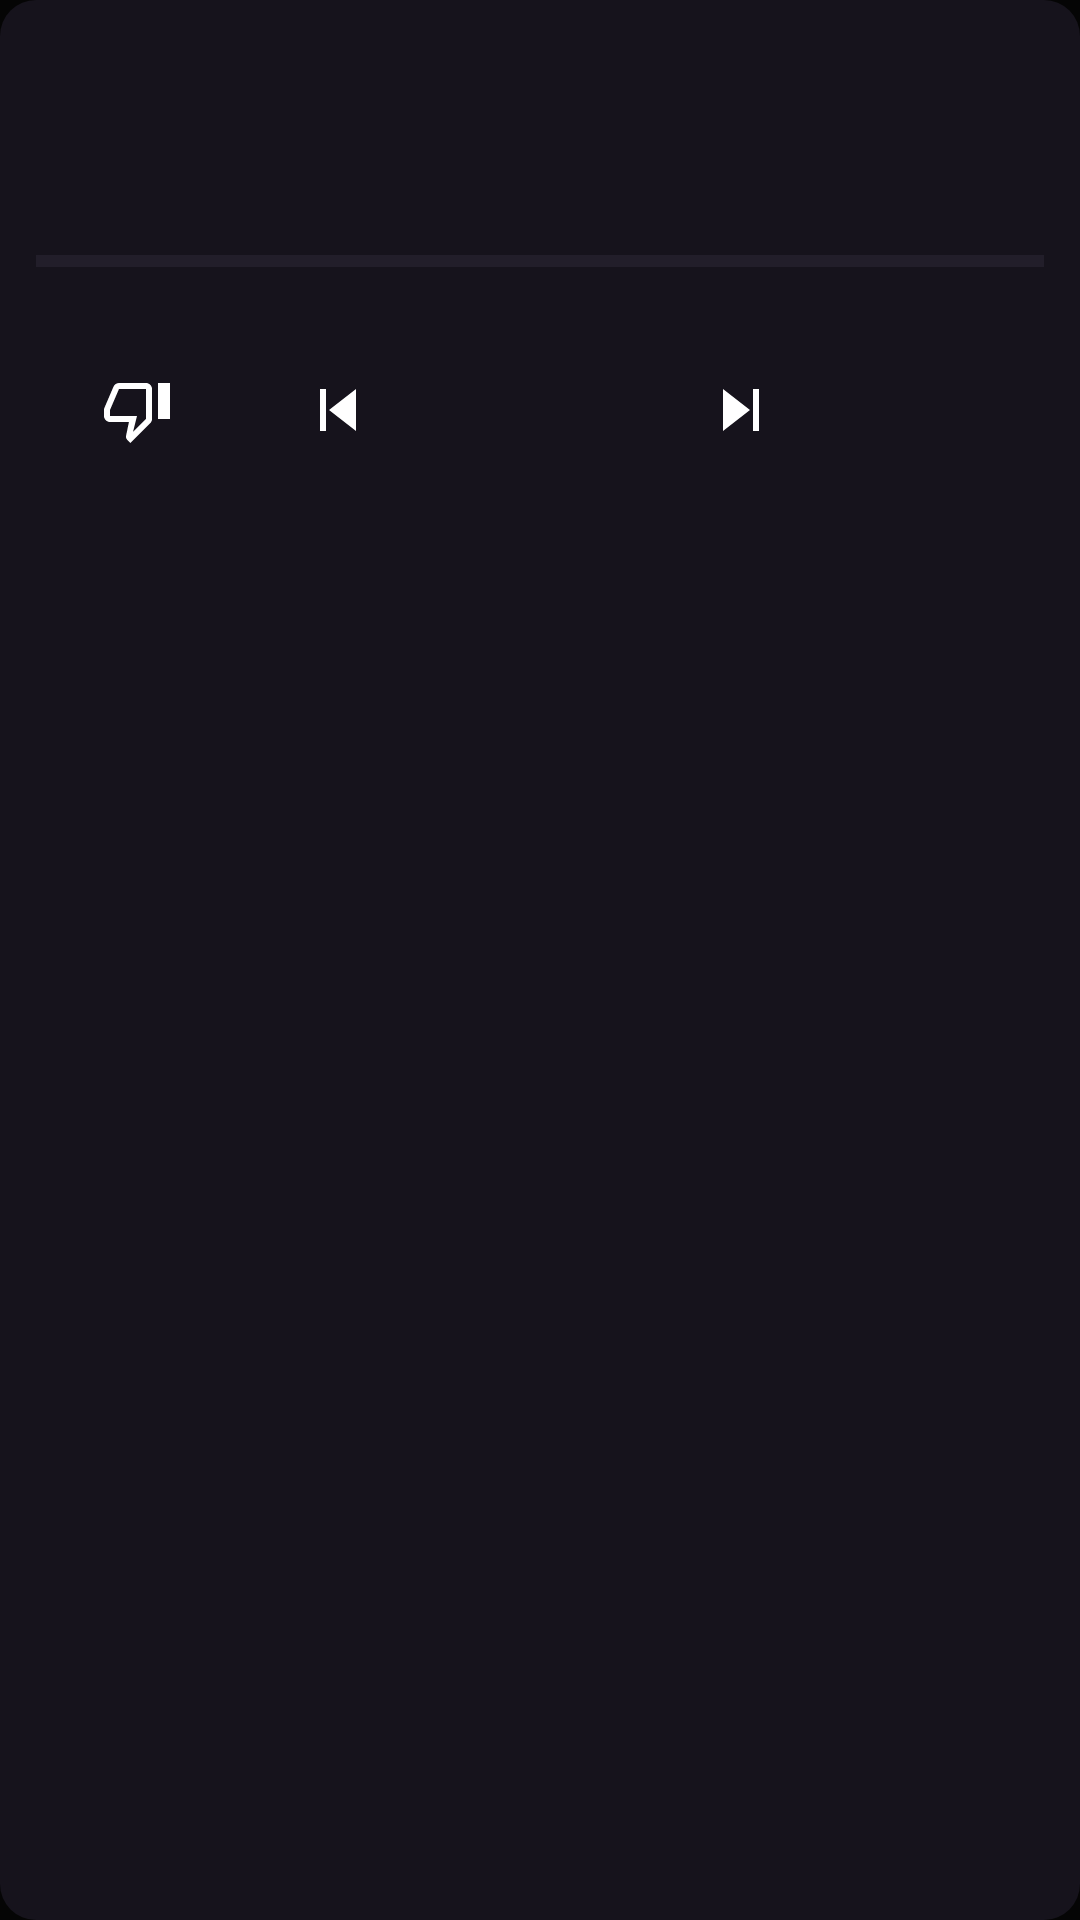

Icons on this 1080x1920 Android screen, each with its box as (x1, y1, x2, y2):
Не нравится: (104, 383, 170, 443)
Предыдущая композиция: (320, 389, 356, 431)
Следующая композиция: (723, 389, 759, 431)
